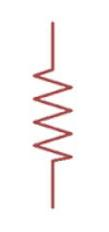resistor: (25, 55, 79, 173)
